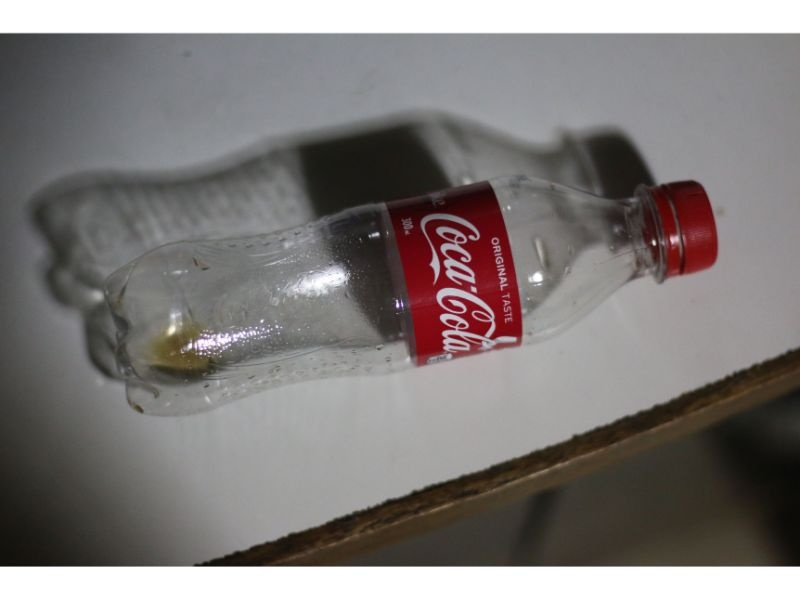PET #1: (98, 171, 738, 417)
